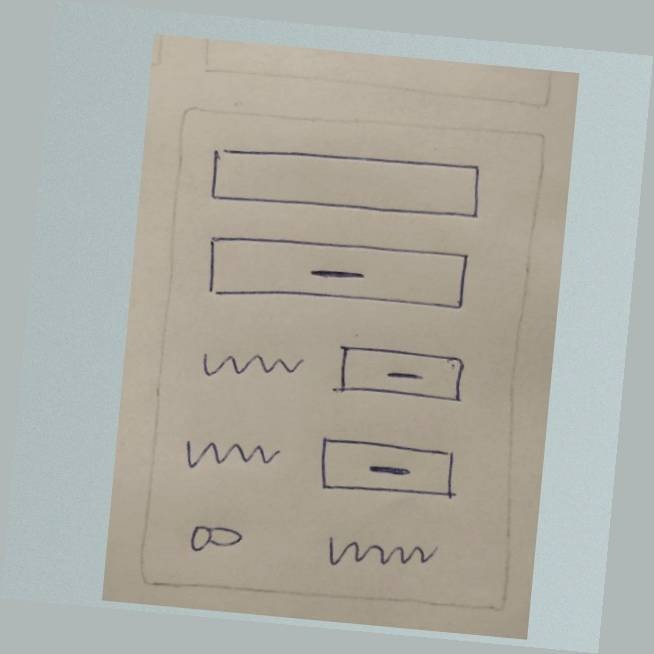button: (194, 224, 478, 322), (325, 333, 471, 413), (314, 430, 462, 508)
switch: (179, 513, 250, 560)
text: (323, 528, 443, 578), (190, 342, 310, 391), (172, 430, 292, 479)
text_input: (203, 139, 487, 228)
